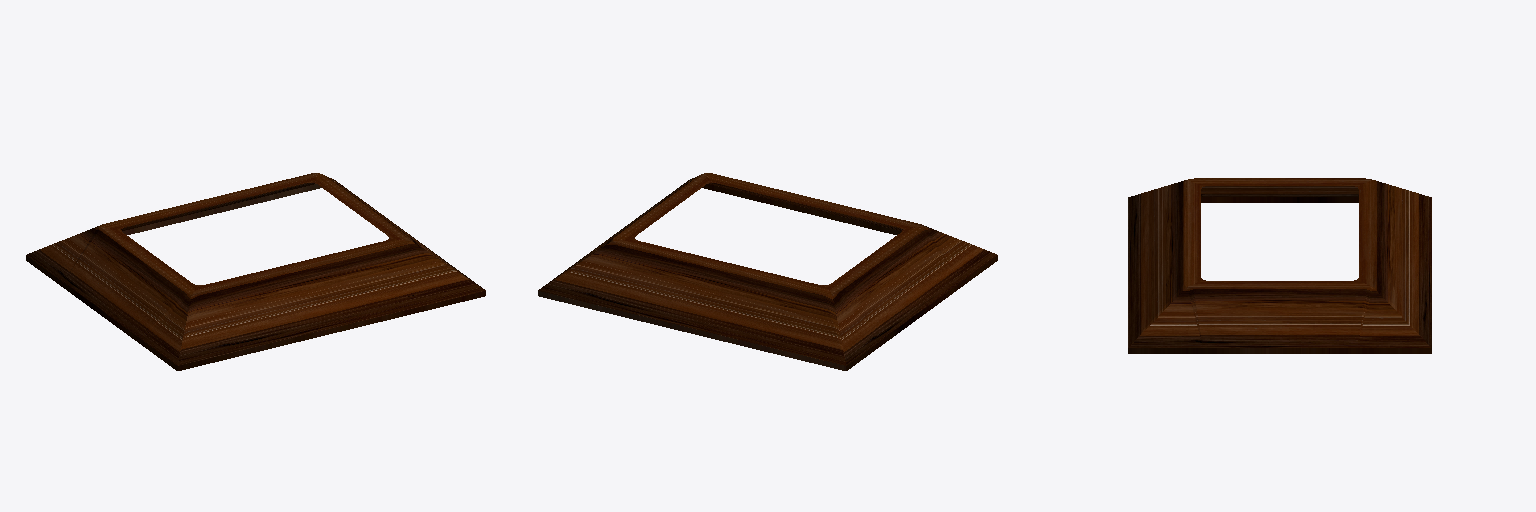
3 renders of one model, left to right at view 1: azimuth 30°, elevation 25°; view 2: azimuth 150°, elevation 25°; view 3: azimuth 270°, elevation 25°, orthographic.
Visible parts, largest first — view 1: Kitchen_GEO_GRP1_Top; view 2: Kitchen_GEO_GRP1_Top; view 3: Kitchen_GEO_GRP1_Top.
Part boxes in pixels (x1,y1,x2,y2): Kitchen_GEO_GRP1_Top: (26, 173, 485, 370); Kitchen_GEO_GRP1_Top: (538, 173, 997, 370); Kitchen_GEO_GRP1_Top: (1128, 178, 1431, 353).
Size of the model in its own units: 7.19 by 0.9901 by 6.13.
Materials: 1 (1 with a texture image).